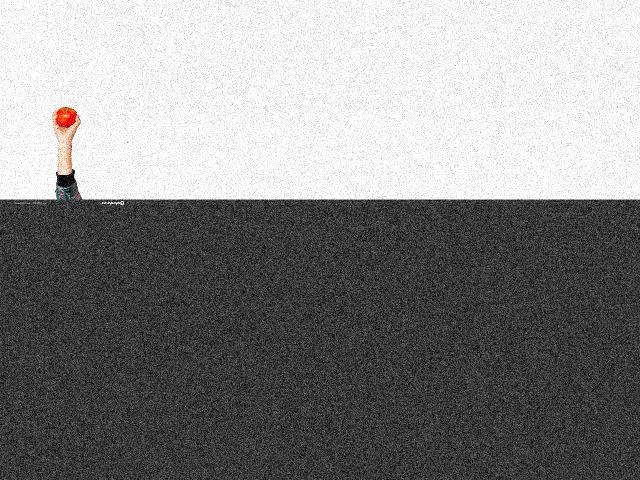tomato: (55, 106, 76, 127)
